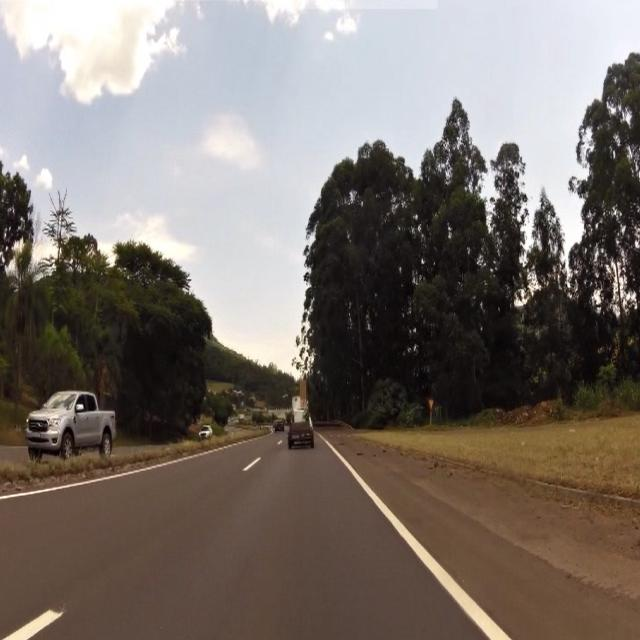R-2: (428, 396, 436, 412)
